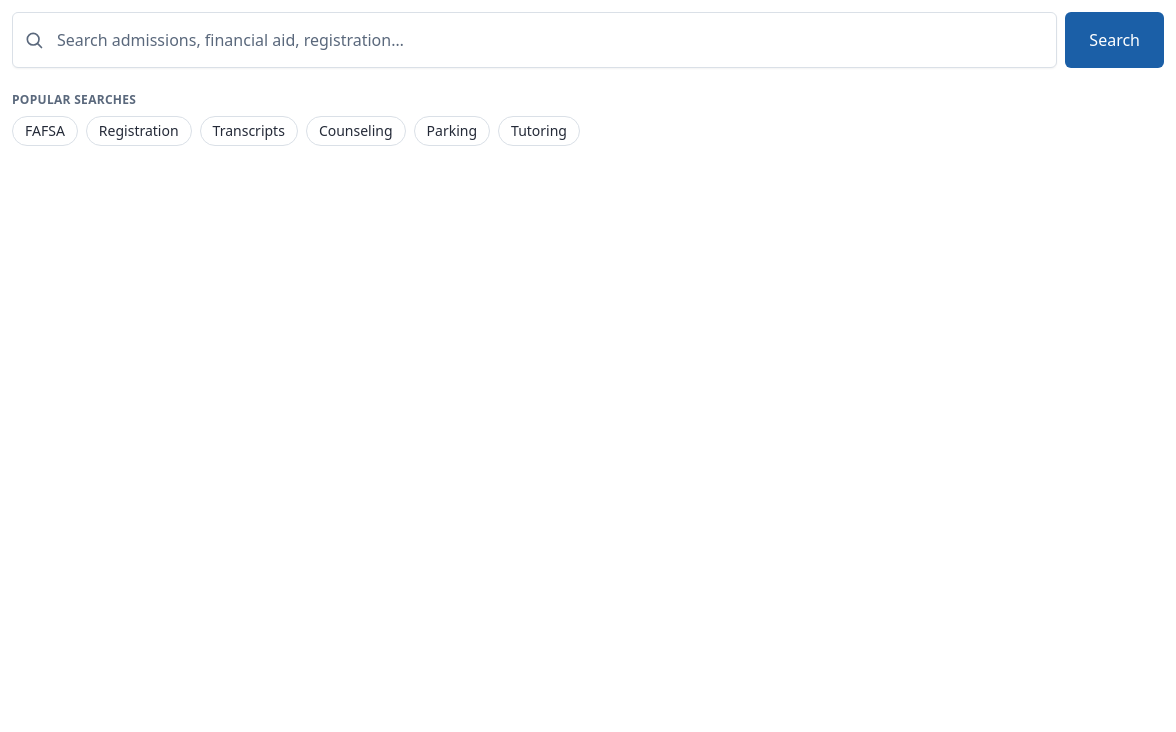
Scenario: SearchExperience › shows popular searches in the idle state and searches on click
The image size is (1176, 732).
expect the element "Popular searches" is shown: met, box [12,91,580,146]
Click the button "Counseling".
click(356, 131)  # box [306,116,406,146]
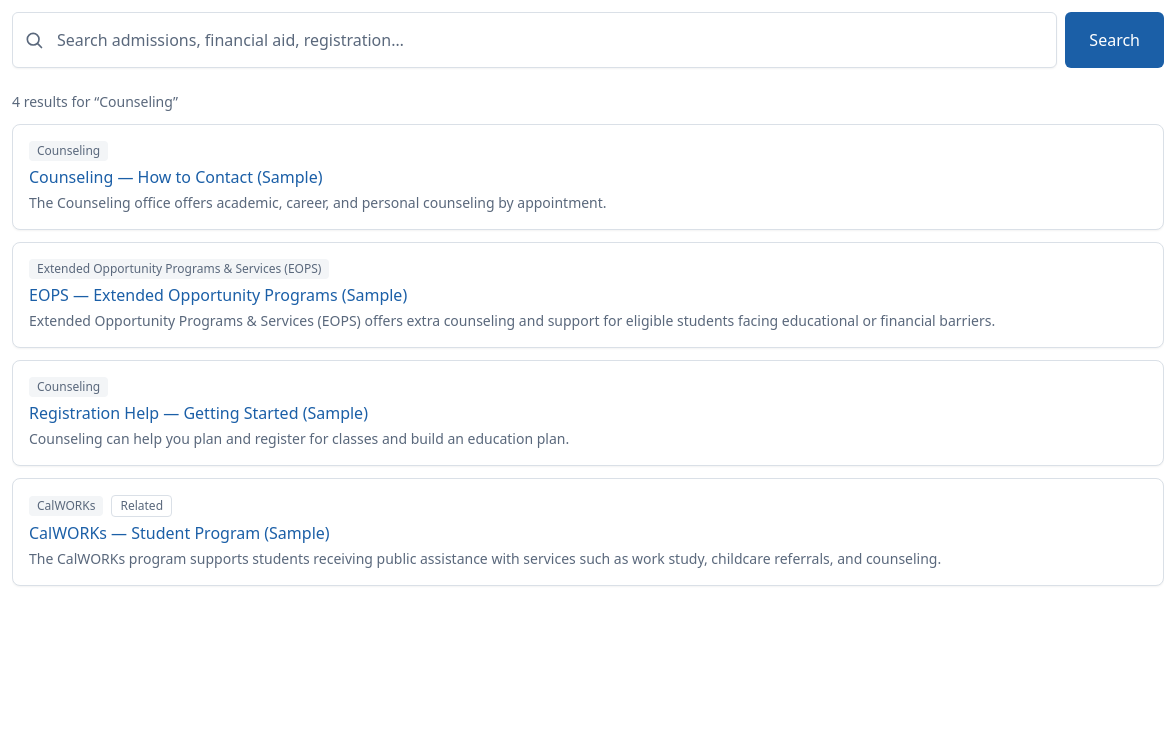
expect the element named "search results" is shown: met
